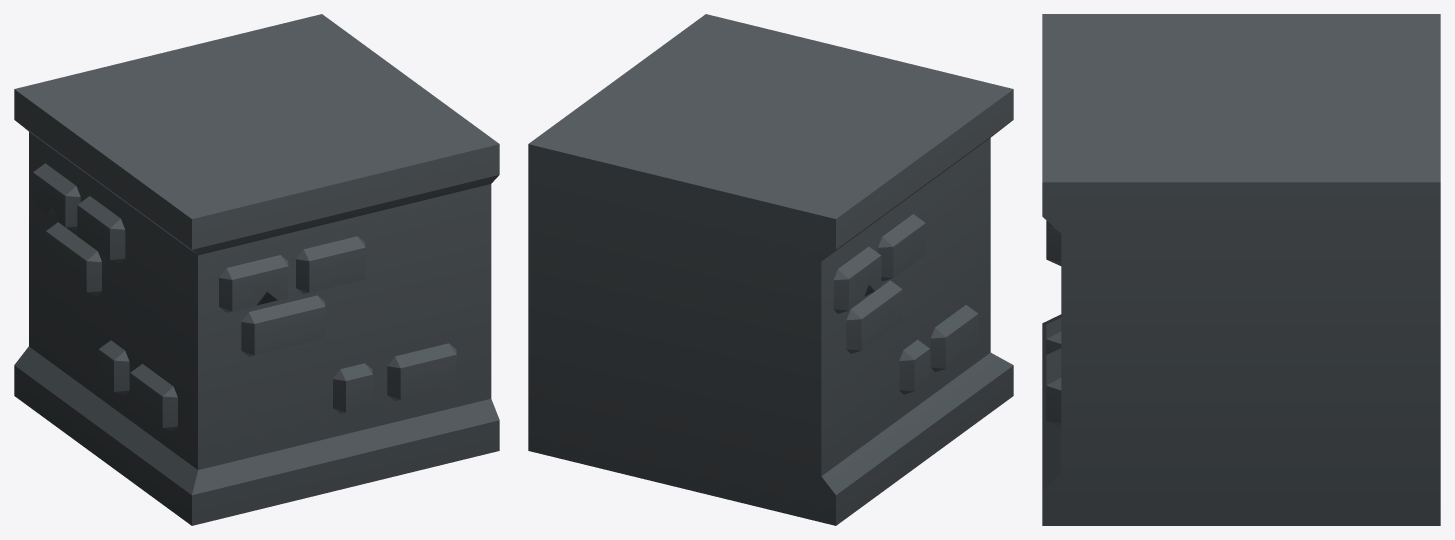
File: floor_foundation_corner.gltf
3 views of the same model, side by side, from view 1: azimuth 30°, elevation 25°; view 2: azimuth 150°, elevation 25°; view 3: azimuth 270°, elevation 25° (orthographic). The views are drawn at different scales.
Parts seen in each view (by area): view 1: floor_foundation_corner; view 2: floor_foundation_corner; view 3: floor_foundation_corner.
Boxes of the visible parts, x1,y1,x2,y2 form: floor_foundation_corner: (14, 14, 499, 525); floor_foundation_corner: (528, 14, 1013, 525); floor_foundation_corner: (1042, 14, 1440, 525).
Bounding box in the file's own units: 2.1 × 2 × 2.1.
Materials: 1 (1 with a texture image).
